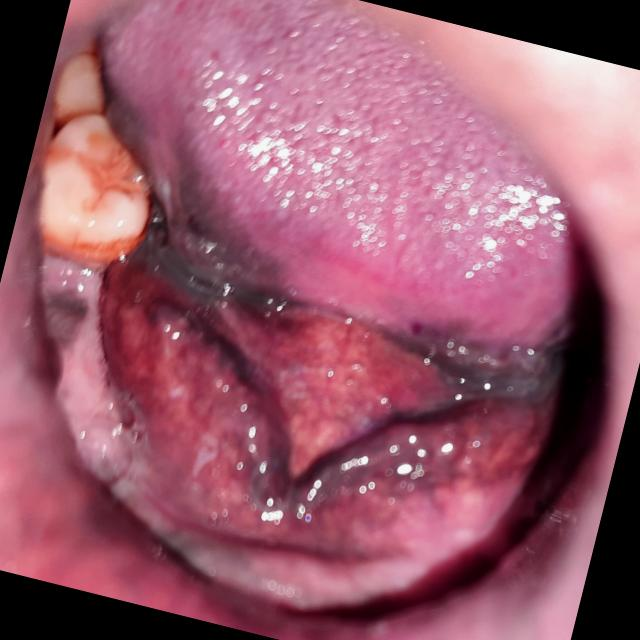Cancer: (0, 132, 621, 640)
